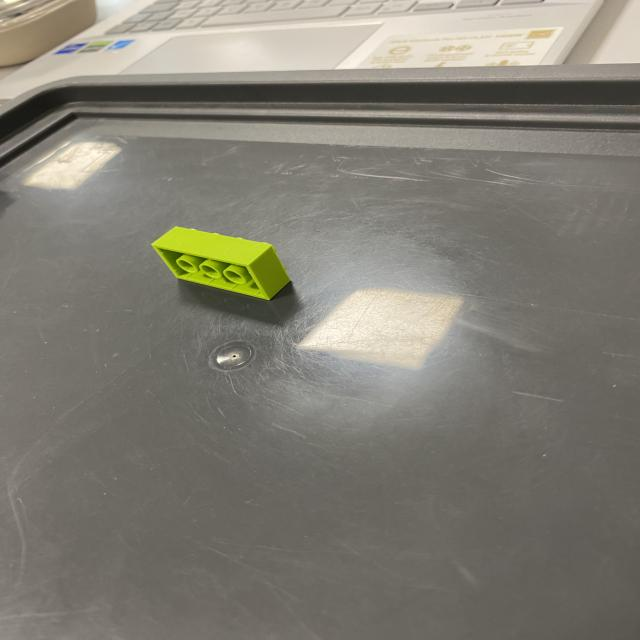C4x2x1: (151, 223, 295, 301), (154, 245, 273, 303)
